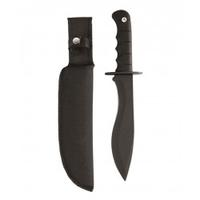knife: (52, 9, 100, 195), (106, 8, 149, 182)
